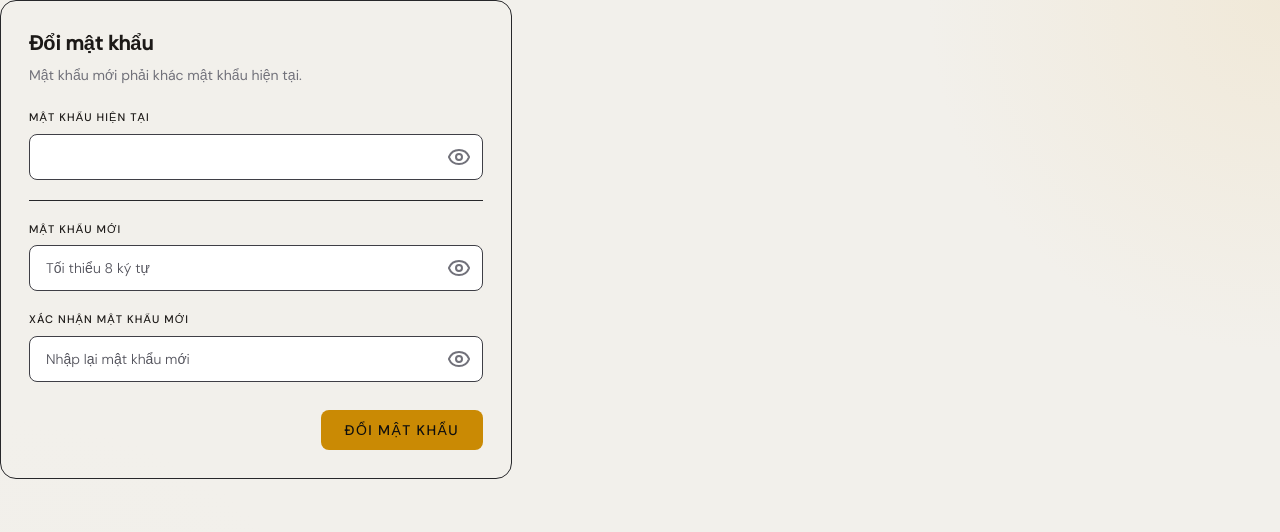
Test: ChangePasswordForm › should show password strength meter for new password
The image size is (1280, 532).
In the password field with placeholder "Tối thiểu 8 ký tự": (256, 268) [29,245,483,291], type "NewPassword1!"
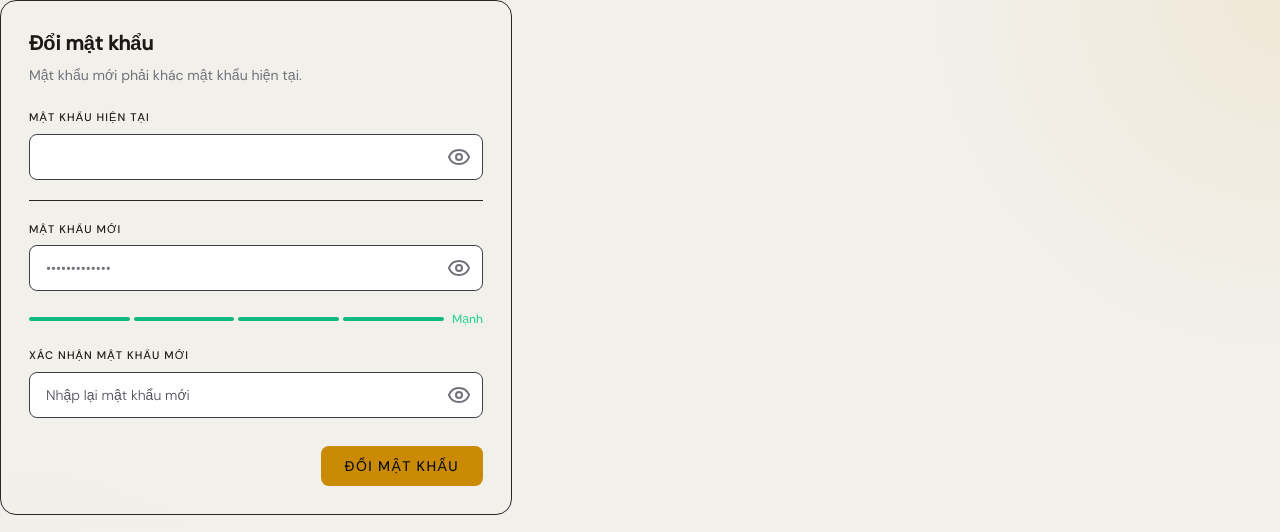
Expected: the text "Mạnh" is shown, [452,311,483,327]
